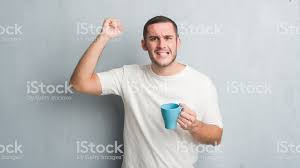white_male: (138, 14, 175, 60)
